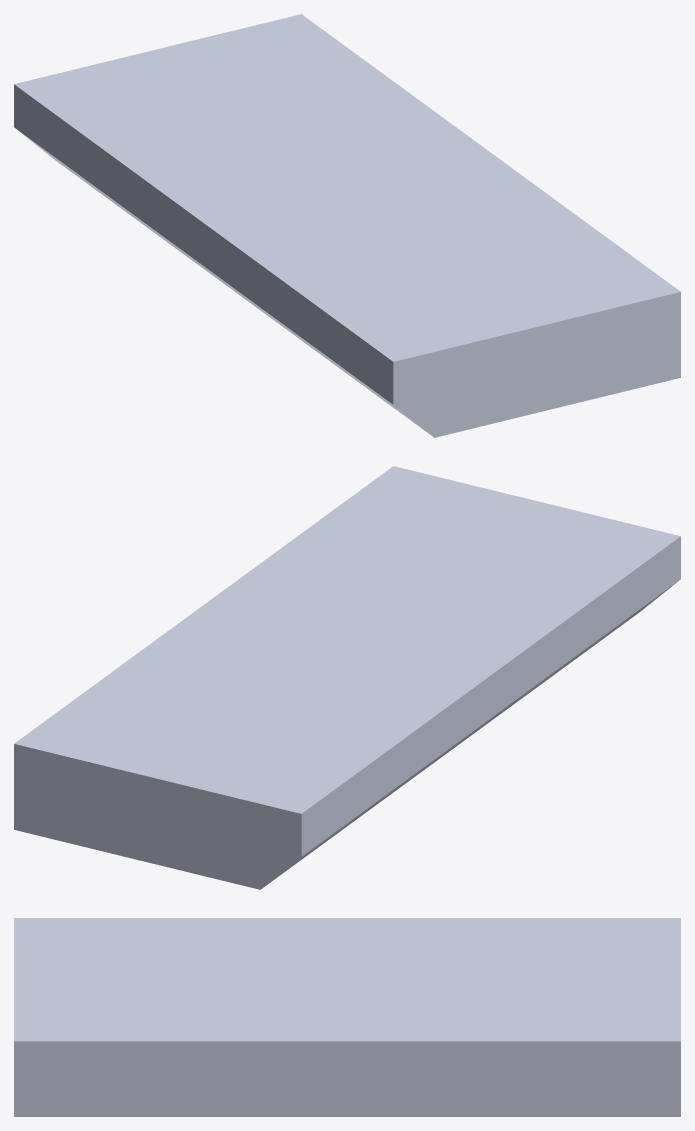
3 views of the same model, one above another, from view 1: azimuth 30°, elevation 25°; view 2: azimuth 150°, elevation 25°; view 3: azimuth 270°, elevation 25° (orthographic). The views are drawn at different scales.
Parts seen in each view (by area): view 1: object_073; view 2: object_073; view 3: object_073.
Boxes of the visible parts, <box> form: object_073: <box>14,14,680,437</box>; object_073: <box>14,466,680,889</box>; object_073: <box>14,918,680,1116</box>.
Bounding box in the file's own units: 4.38 × 1.25 × 10.
